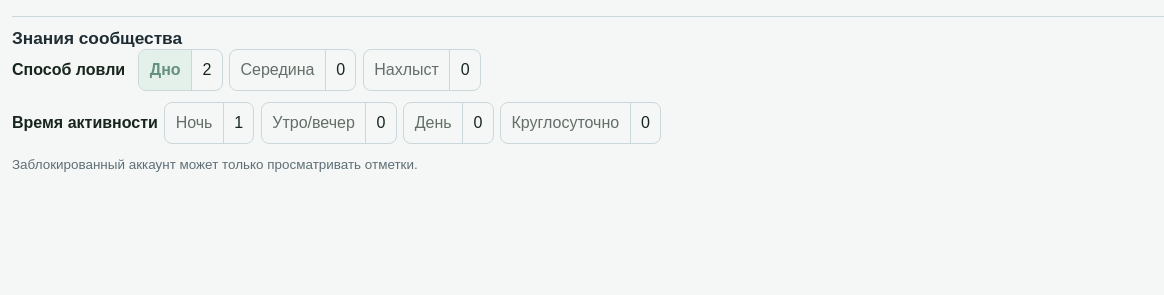
banned participants can view voters but cannot mutate
expect the text "Заблокированный аккаунт может только просматривать отметки." is shown: met, box [12, 157, 418, 172]
expect the button "Дно" is disabled: met, box [139, 50, 191, 90]
Click the button named "Кто отметил «Ночь»".
click(238, 123)  # box [223, 103, 254, 143]
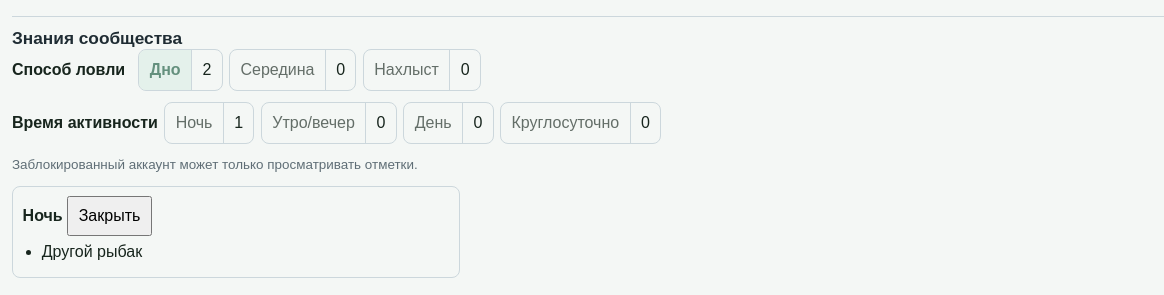
expect the list item "Другой рыбак" is shown: met, box [42, 243, 142, 260]
